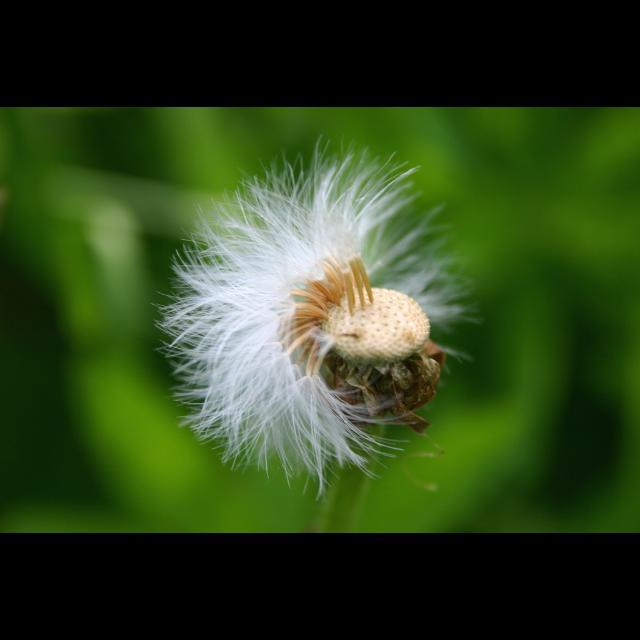Flower: (161, 136, 433, 480)
